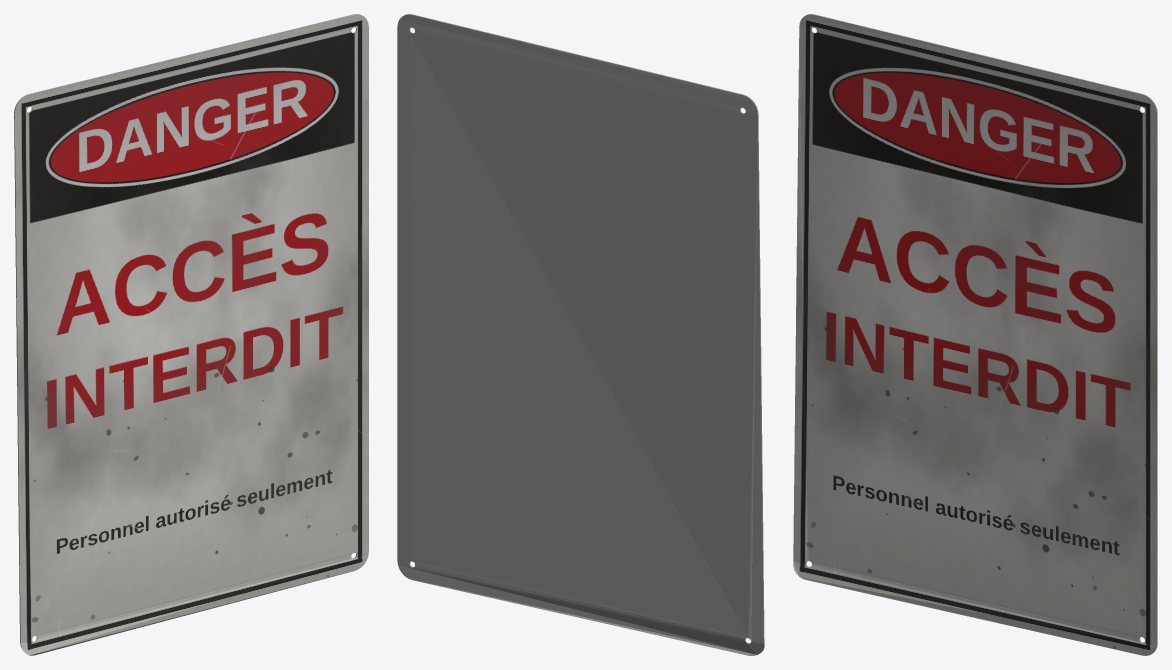
Rendered from SM_Affiche_Acces_Interdit.glb.
The picture shows the model from 3 angles, left to right: view 1: azimuth 30°, elevation 25°; view 2: azimuth 150°, elevation 25°; view 3: azimuth 330°, elevation 25°; orthographic projection.
Visible parts, largest first — view 1: SM_Affiche_Acces_Interdit; view 2: SM_Affiche_Acces_Interdit; view 3: SM_Affiche_Acces_Interdit.
Part boxes in pixels (left/top/right/bottom): SM_Affiche_Acces_Interdit: left=14, top=14, right=368, bottom=655; SM_Affiche_Acces_Interdit: left=397, top=14, right=764, bottom=655; SM_Affiche_Acces_Interdit: left=793, top=14, right=1157, bottom=655.
Size of the model in its own units: 0.3048 by 0.4572 by 0.0124.
Materials: 2 (1 with a texture image).
